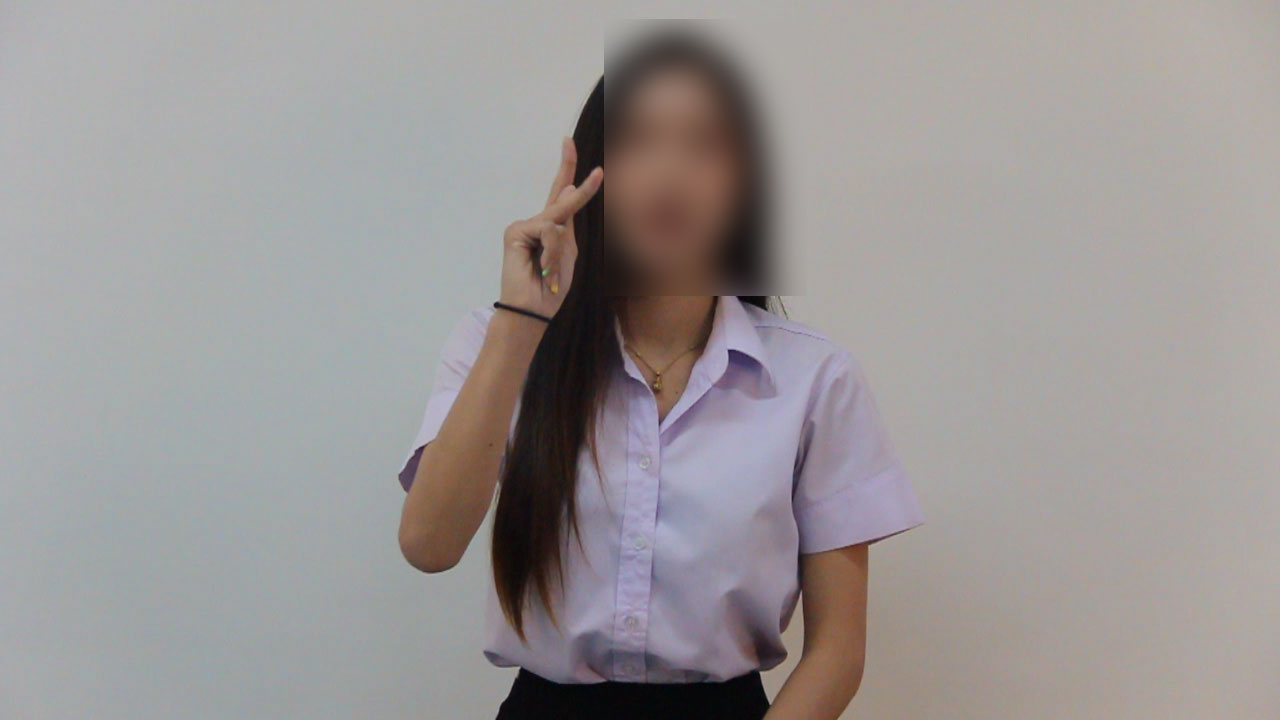ko: (490, 133, 612, 313)
